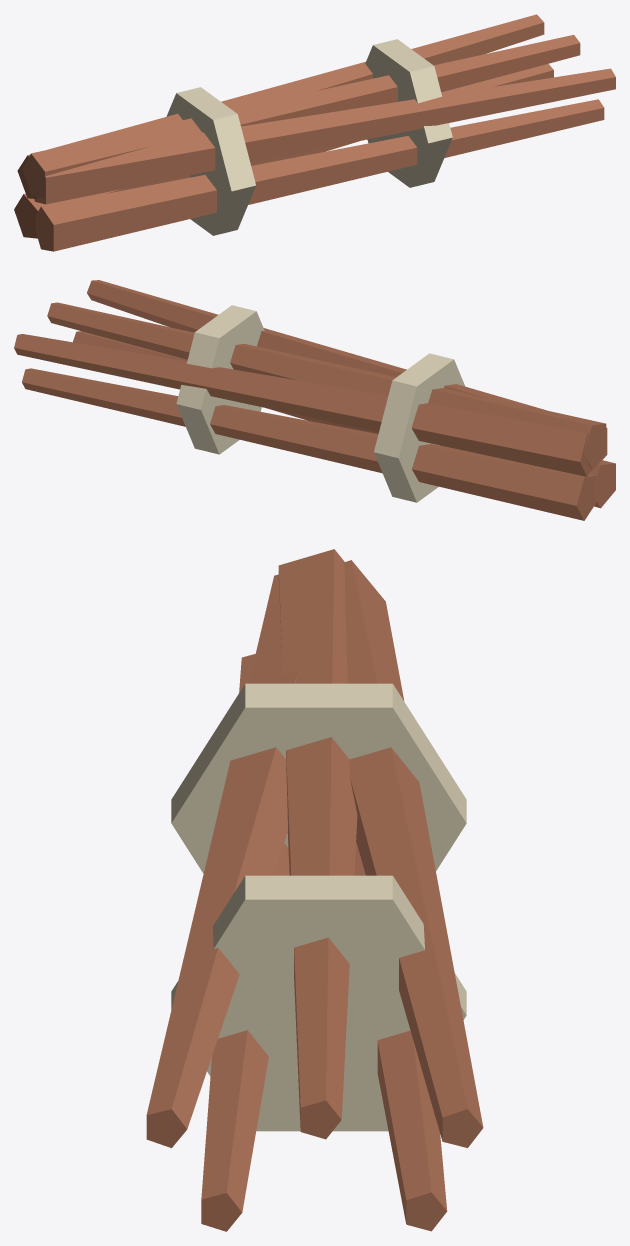
Rendered from prop-madder-root-bundle.fbx.
3 renders of one model, top to bottom at view 1: azimuth 30°, elevation 25°; view 2: azimuth 150°, elevation 25°; view 3: azimuth 270°, elevation 25°, orthographic. The views are drawn at different scales.
Parts seen in each view (by area): view 1: prop-madder-root-bundle; view 2: prop-madder-root-bundle; view 3: prop-madder-root-bundle.
Part boxes in pixels (<box>): prop-madder-root-bundle: <box>14,14,615,251</box>; prop-madder-root-bundle: <box>14,280,615,520</box>; prop-madder-root-bundle: <box>146,549,483,1231</box>.
Bounding box in the file's own units: 55.1 × 11.26 × 14.84.
